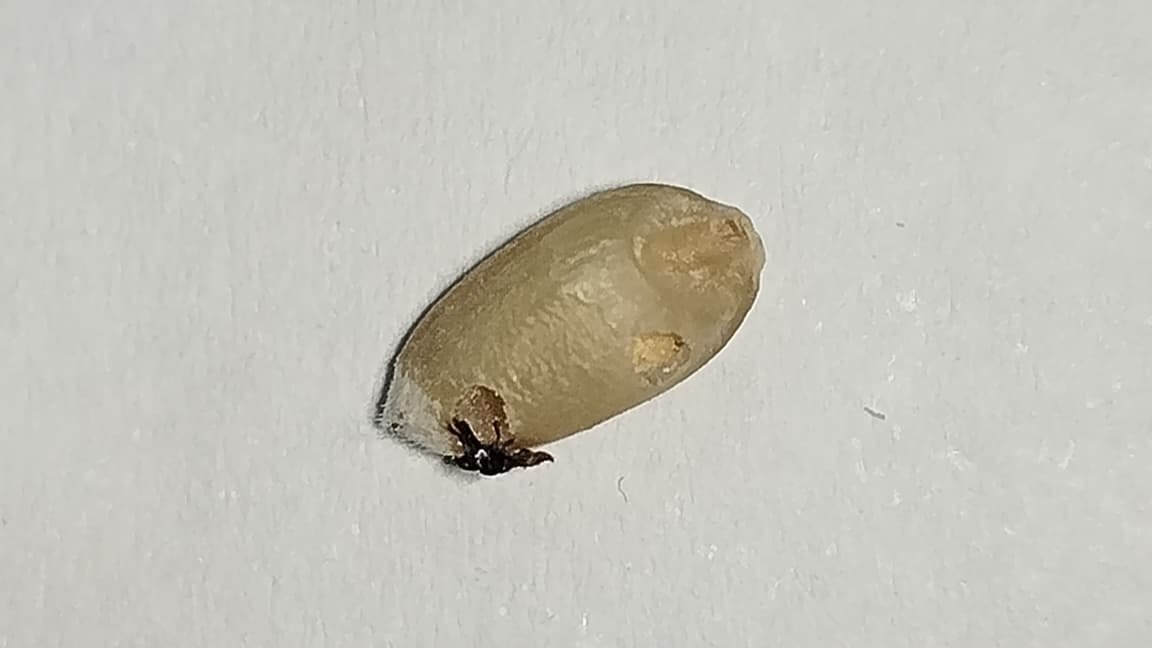damage: (375, 185, 762, 475)
insectdamage: (433, 374, 564, 490), (600, 300, 712, 384)
